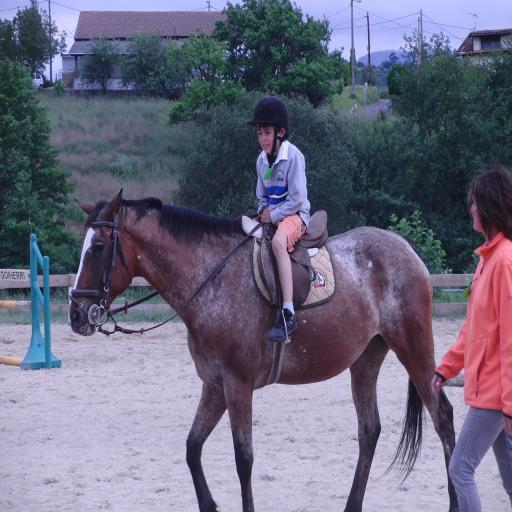horse: (65, 186, 459, 512)
